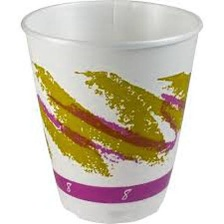paper_cup: (17, 0, 206, 224)
